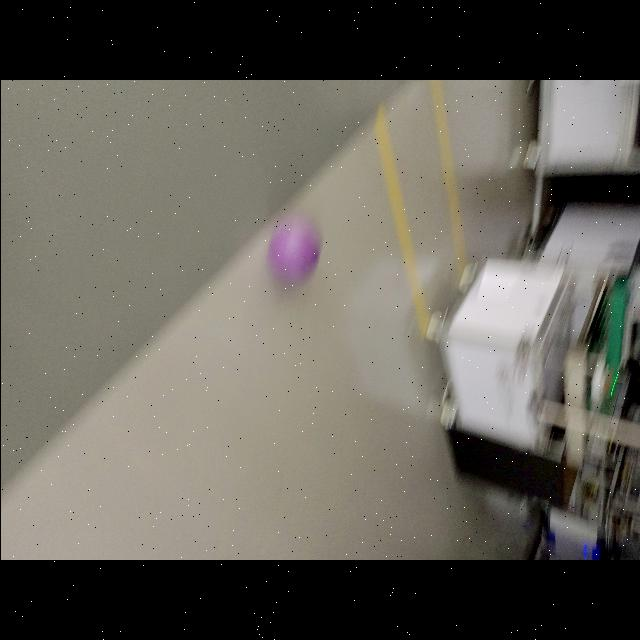P: (268, 216, 322, 288)
